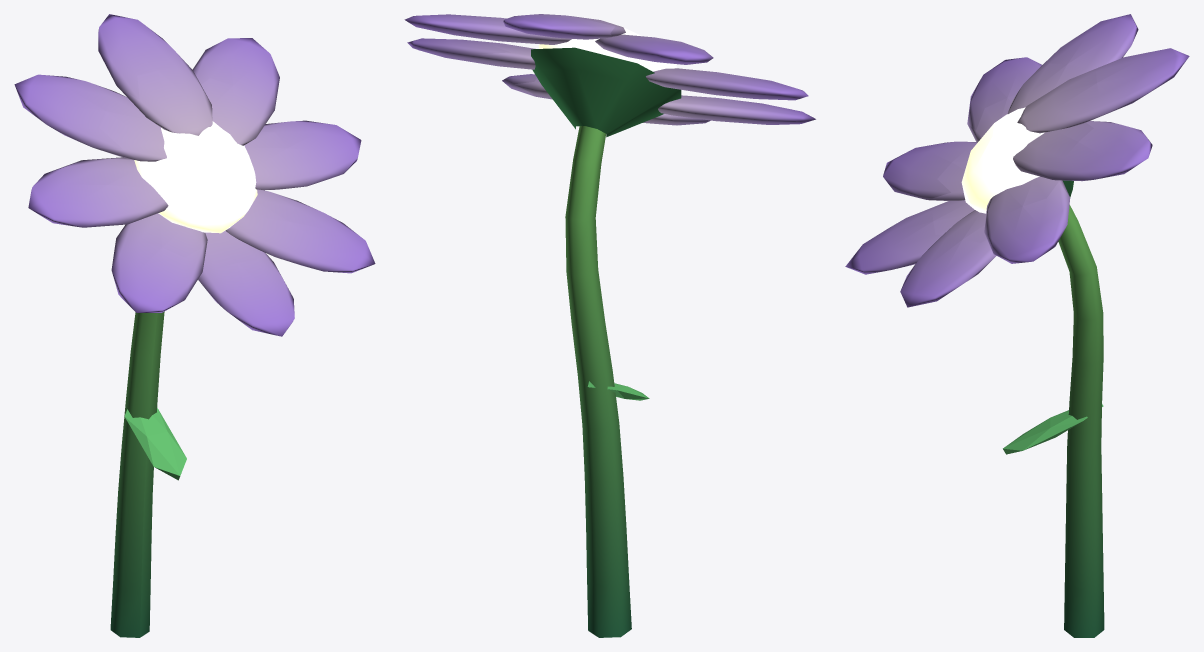
Rendered from flor-gigante.glb.
3 views of the same model, side by side, from view 1: azimuth 30°, elevation 25°; view 2: azimuth 150°, elevation 25°; view 3: azimuth 270°, elevation 25° (orthographic). The views are drawn at different scales.
Visible parts, largest first — view 1: flor-gigante; view 2: flor-gigante; view 3: flor-gigante.
Boxes of the visible parts, x1,y1,x2,y2 form: flor-gigante: (14,14,375,637); flor-gigante: (404,14,815,637); flor-gigante: (845,14,1189,637).
Bounding box in the file's own units: 2.65 × 4.19 × 2.22.
